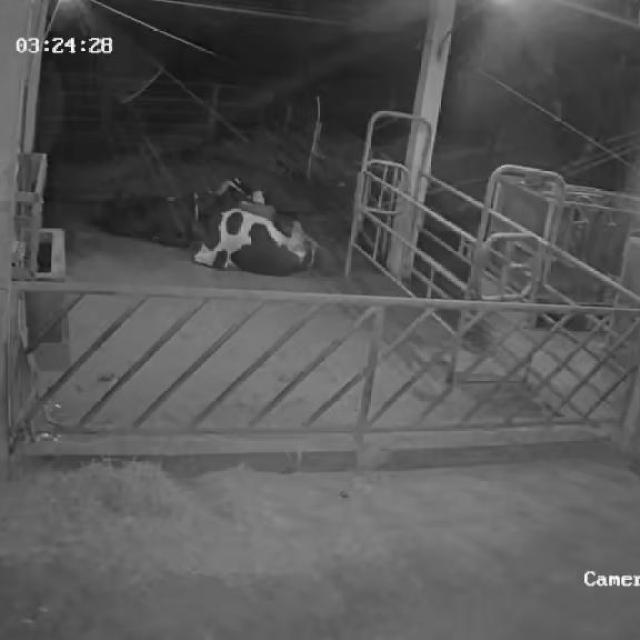lying down: (188, 191, 316, 276), (92, 185, 204, 246), (216, 171, 270, 220)
